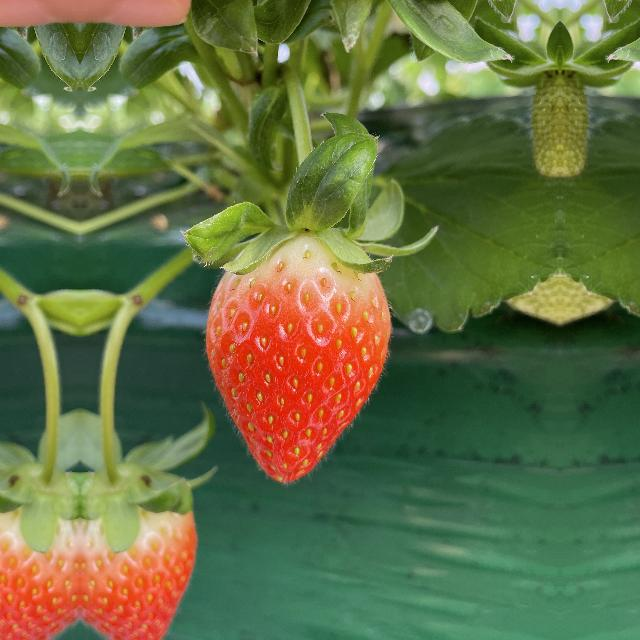Health_100: (194, 225, 400, 490)
Health_75: (84, 464, 198, 640), (0, 464, 76, 639)
